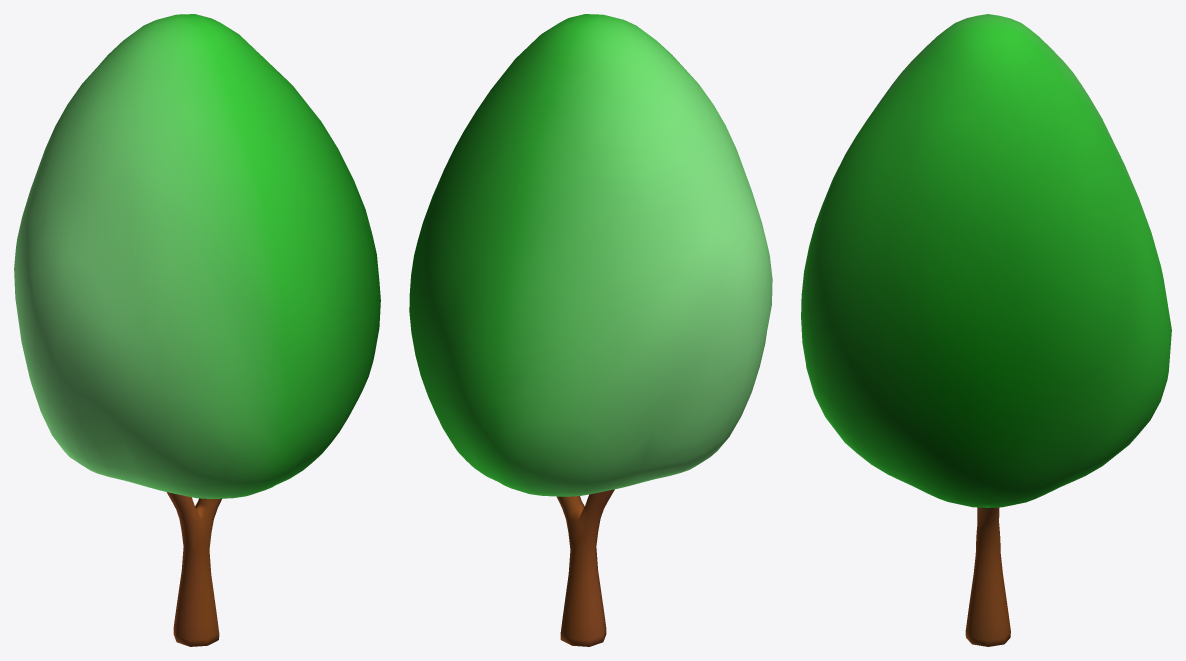
File: Tree_l.poly.glb
3 views of the same model, side by side, from view 1: azimuth 30°, elevation 25°; view 2: azimuth 150°, elevation 25°; view 3: azimuth 270°, elevation 25° (orthographic).
Visible parts, largest first — view 1: Folage_mpoly.001, Trunk_lpoly; view 2: Folage_mpoly.001, Trunk_lpoly; view 3: Folage_mpoly.001, Trunk_lpoly.
Boxes of the visible parts, bbox=[...] form: Folage_mpoly.001: bbox=[14, 14, 380, 498]; Trunk_lpoly: bbox=[166, 492, 221, 646]; Folage_mpoly.001: bbox=[409, 14, 772, 496]; Trunk_lpoly: bbox=[557, 489, 614, 646]; Folage_mpoly.001: bbox=[801, 14, 1171, 507]; Trunk_lpoly: bbox=[965, 507, 1010, 646].
Size of the model in its own units: 7.66 by 13.84 by 7.6.
Materials: 2 (2 with a texture image).
